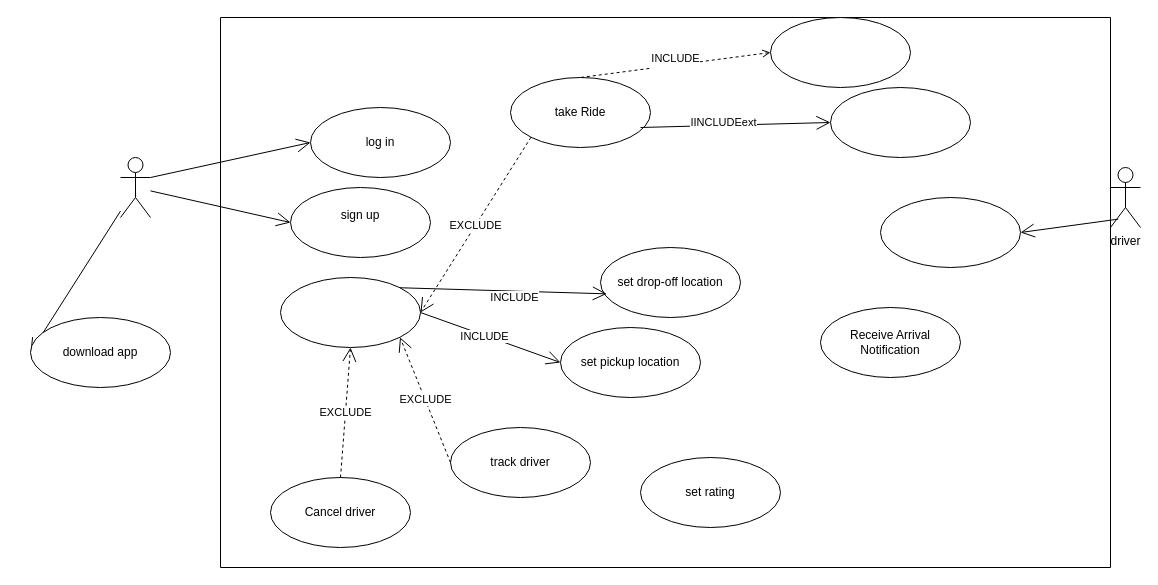
Image size: 1158x585. Some labels were removed from this diagram. The centre of each missing label's shape, as x and y in pixels:
"ACCEPT JOB" belongs at [950,232].
"Complete Journey and Receive Summary" belongs at [900,122].
"customer" belongs at [135,187].
"Generate Payment" belongs at [840,52].
"request driver" belongs at [350,312].
